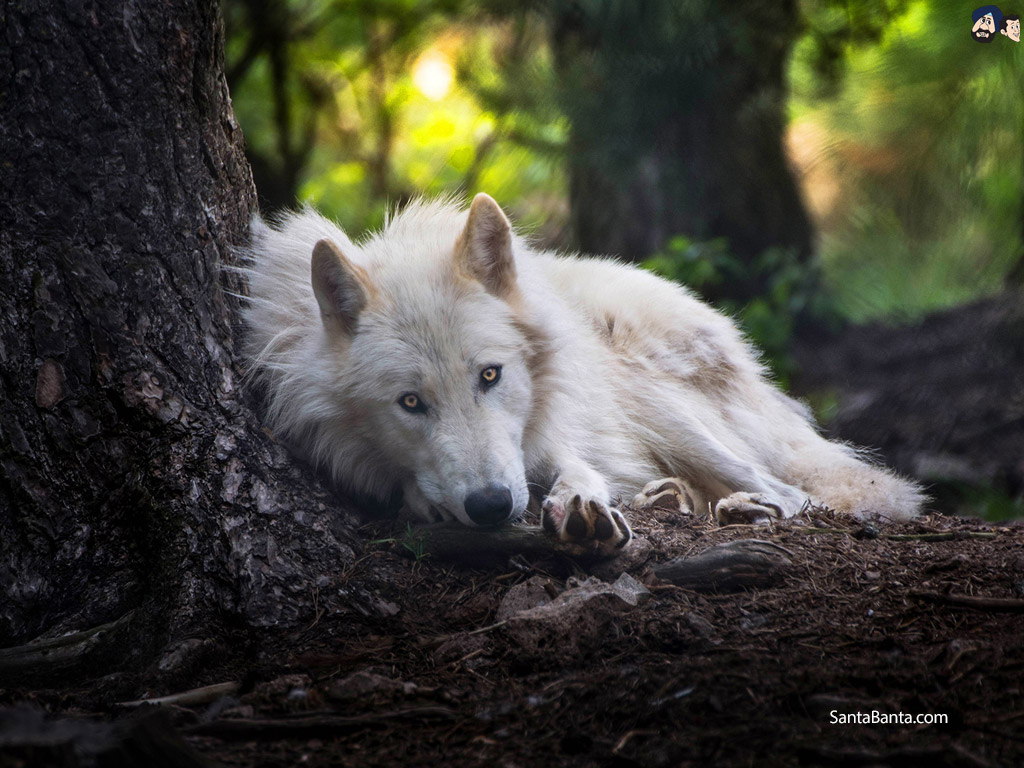wolf: (229, 170, 944, 600)
